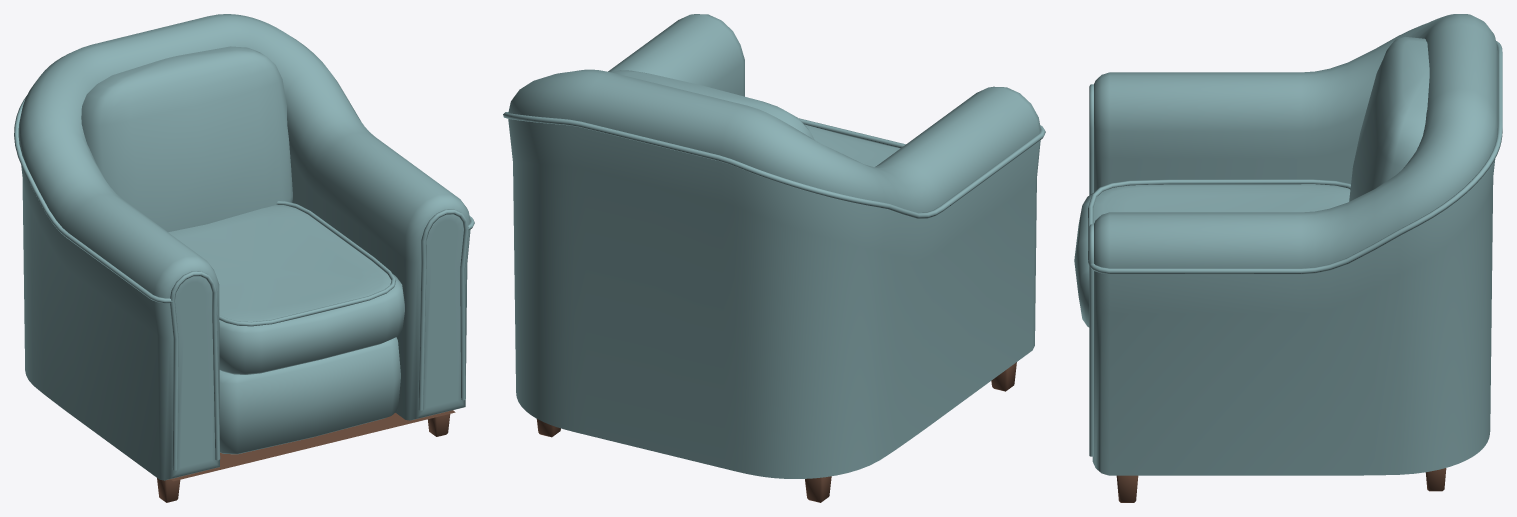
Rendered from Kit_ClubChair.fbx.
3 renders of one model, left to right at view 1: azimuth 30°, elevation 25°; view 2: azimuth 150°, elevation 25°; view 3: azimuth 270°, elevation 25°, orthographic. The views are drawn at different scales.
Parts seen in each view (by area): view 1: Kit_ClubChair_LOD0; view 2: Kit_ClubChair_LOD0; view 3: Kit_ClubChair_LOD0.
Boxes of the visible parts, <box> form: Kit_ClubChair_LOD0: <box>14,14,474,502</box>; Kit_ClubChair_LOD0: <box>503,14,1045,502</box>; Kit_ClubChair_LOD0: <box>1074,14,1502,502</box>.
Size of what is drawn, in the model's own units: 0.85 by 0.82 by 0.8614.
